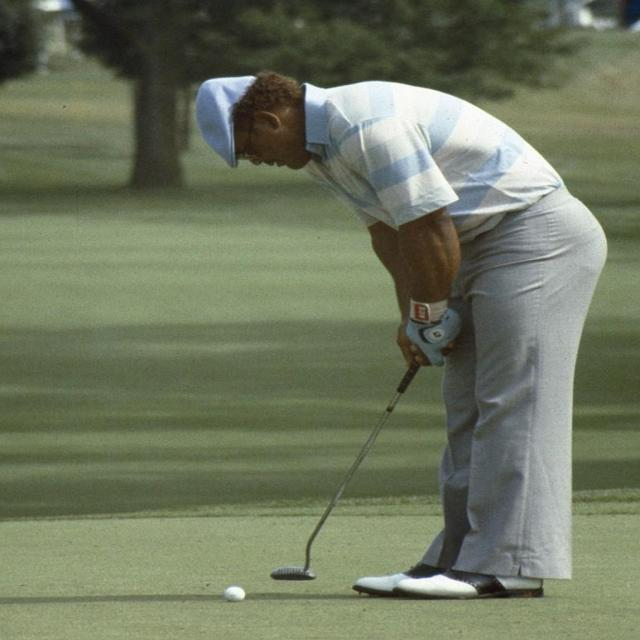ClubHead: (246, 554, 346, 586)
GolfBall: (216, 580, 250, 607)
